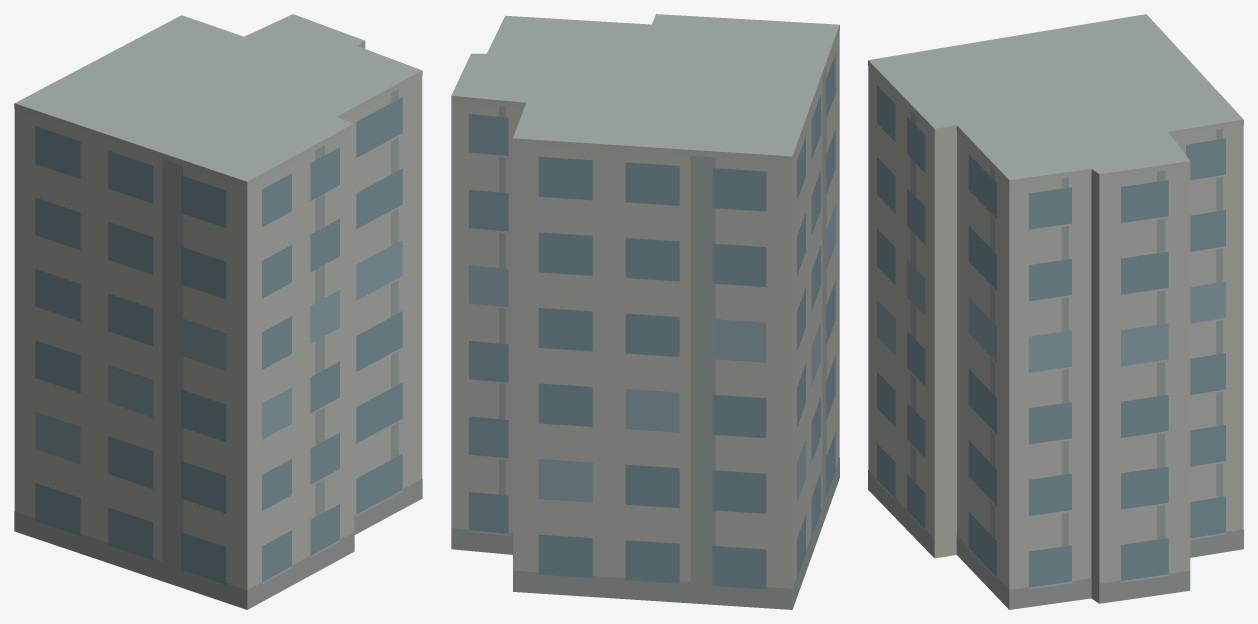
File: survey-upis-32975781.glb
3 renders of one model, left to right at view 1: azimuth 30°, elevation 25°; view 2: azimuth 150°, elevation 25°; view 3: azimuth 270°, elevation 25°, orthographic. The views are drawn at different scales.
Parts seen in each view (by area): view 1: survey-upis-32975781.tmp; view 2: survey-upis-32975781.tmp; view 3: survey-upis-32975781.tmp.
Part boxes in pixels (box(x1,y1,x2,y2)): survey-upis-32975781.tmp: box(14, 14, 422, 609); survey-upis-32975781.tmp: box(451, 14, 839, 609); survey-upis-32975781.tmp: box(868, 14, 1243, 609).
Bounding box in the file's own units: 15.2 × 18.3 × 14.51.
